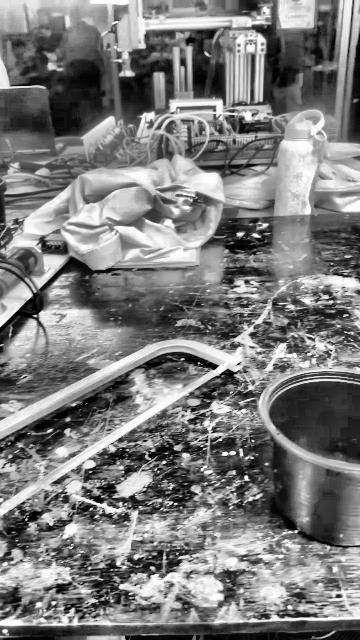pot: (265, 369, 359, 545)
